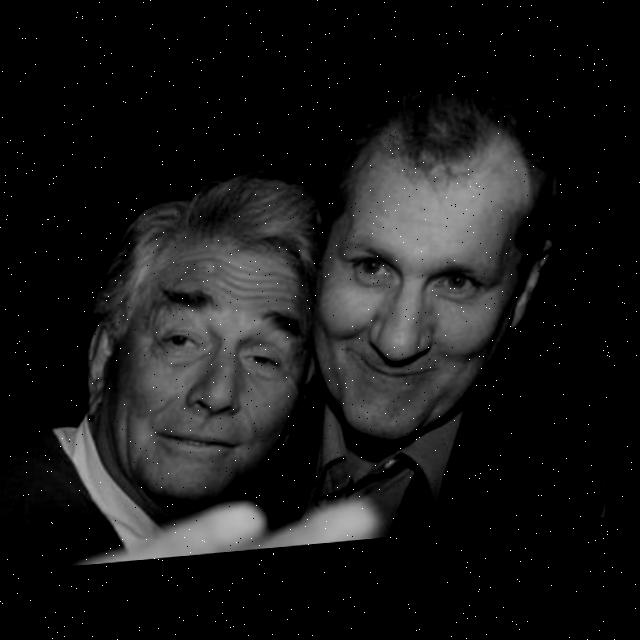face: (326, 135, 548, 437), (126, 239, 307, 494)
